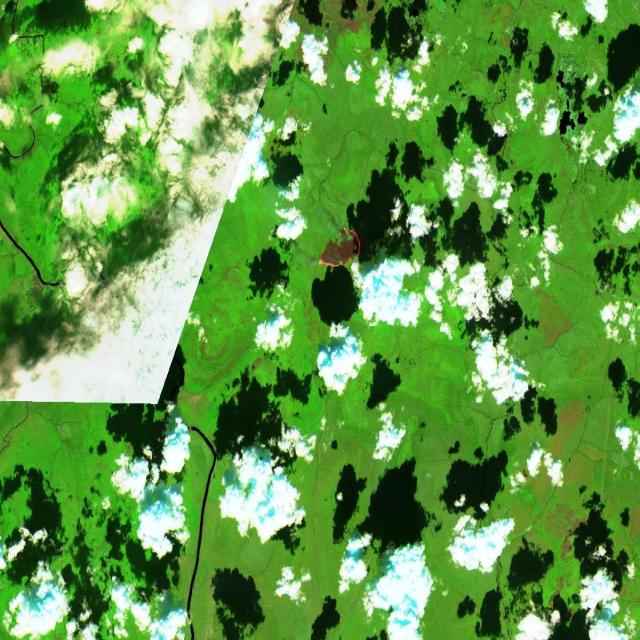fire: (310, 215, 370, 283)
